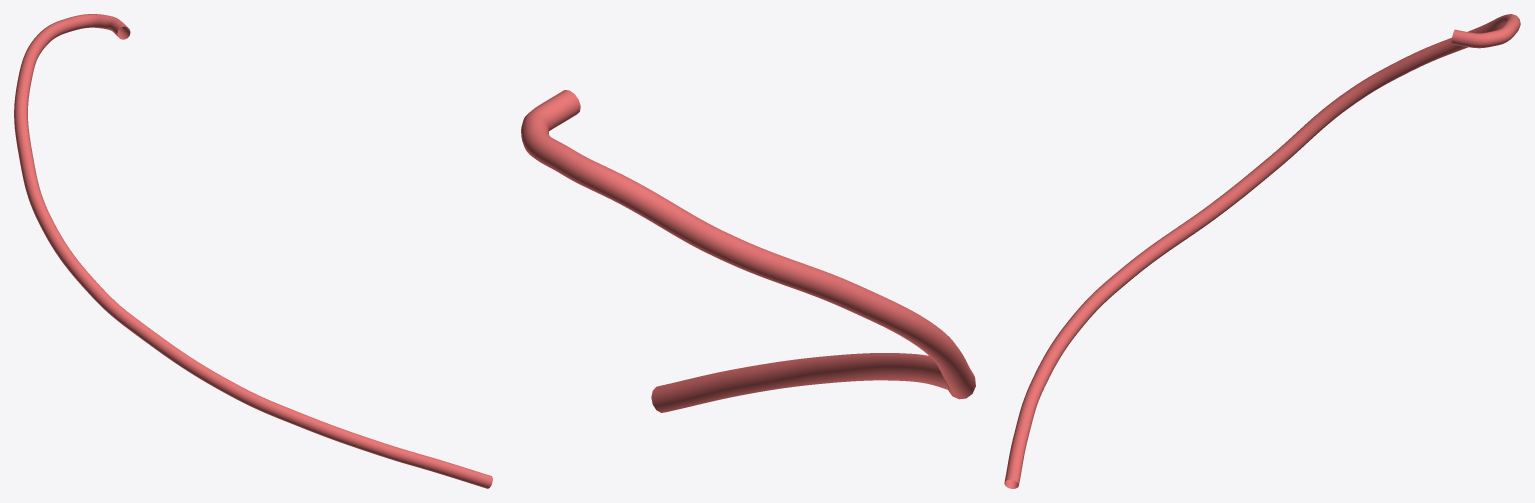
Rendered from First_posterior_intercostal_artery.r_BezierCurve.336.glb.
The picture shows the model from 3 angles, left to right: view 1: azimuth 30°, elevation 25°; view 2: azimuth 150°, elevation 25°; view 3: azimuth 270°, elevation 25°; orthographic projection. The views are drawn at different scales.
Parts seen in each view (by area): view 1: First_posterior_intercostal_artery.r_BezierCurve.336; view 2: First_posterior_intercostal_artery.r_BezierCurve.336; view 3: First_posterior_intercostal_artery.r_BezierCurve.336.
Part boxes in pixels (<box>): First_posterior_intercostal_artery.r_BezierCurve.336: <box>14,14,492,488</box>; First_posterior_intercostal_artery.r_BezierCurve.336: <box>521,90,975,412</box>; First_posterior_intercostal_artery.r_BezierCurve.336: <box>1004,14,1520,488</box>.
Size of the model in its own units: 0.0493 by 0.0556 by 0.0692.
